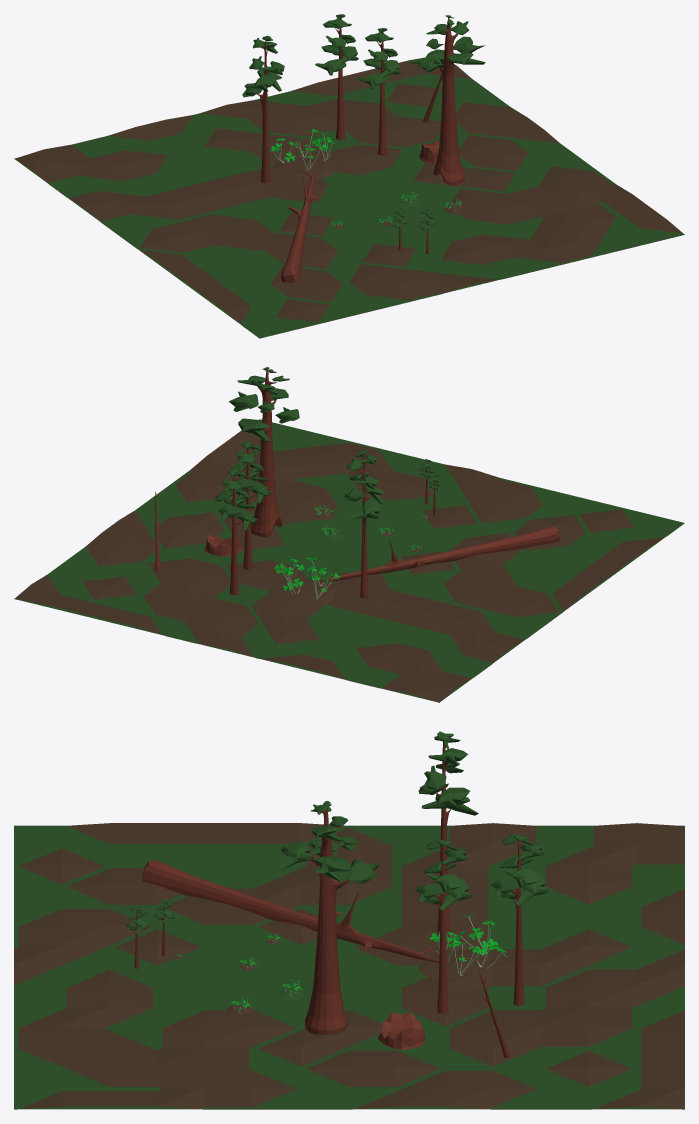
The model's file is sequioascene.dae.
The picture shows the model from 3 angles, top to bottom: view 1: azimuth 30°, elevation 25°; view 2: azimuth 150°, elevation 25°; view 3: azimuth 270°, elevation 25°; orthographic projection. The views are drawn at different scales.
Parts seen in each view (by area): view 1: ground, mossGround, giantSequioa, sequoia001_005, Icosphere_055, sequioa002, sequoia001, sequoia001_002; view 2: ground, mossGround, sequoia001_005, giantSequioa, Icosphere_055, sequioa002, sequoia001_002, Cube, sequoia001; view 3: ground, mossGround, sequoia001_005, giantSequioa, Cube, Icosphere_055, sequoia001, sequoia001_002, Icosphere_008, sequioa002, Icosphere_025, Icosphere_001.
Part boxes in pixels (x1,y1,x2,y2): ground: [16, 57, 684, 338]; mossGround: [14, 74, 684, 338]; giantSequioa: [433, 17, 464, 185]; sequoia001_005: [281, 169, 322, 282]; Icosphere_055: [273, 157, 334, 178]; sequioa002: [257, 39, 270, 183]; sequoia001: [377, 32, 387, 155]; sequoia001_002: [335, 18, 345, 139]; ground: [14, 430, 683, 702]; mossGround: [14, 419, 684, 702]; sequoia001_005: [317, 526, 559, 582]; giantSequioa: [251, 370, 282, 537]; Icosphere_055: [291, 578, 336, 604]; sequioa002: [358, 455, 371, 598]; sequoia001_002: [227, 476, 242, 595]; Cube: [204, 534, 242, 556]; sequoia001: [240, 448, 256, 569]; ground: [14, 823, 684, 1109]; mossGround: [14, 825, 684, 1109]; sequoia001_005: [142, 860, 439, 962]; giantSequioa: [305, 808, 349, 1034]; Cube: [378, 1012, 425, 1049]; Icosphere_055: [418, 949, 492, 977]; sequoia001: [434, 845, 448, 1013]; sequoia001_002: [511, 840, 524, 1005]; Icosphere_008: [313, 856, 350, 882]; sequioa002: [436, 741, 450, 933]; Icosphere_025: [421, 787, 469, 810]; Icosphere_001: [278, 841, 312, 870].
Bounding box in the file's own units: 20 × 20 × 8.66.
